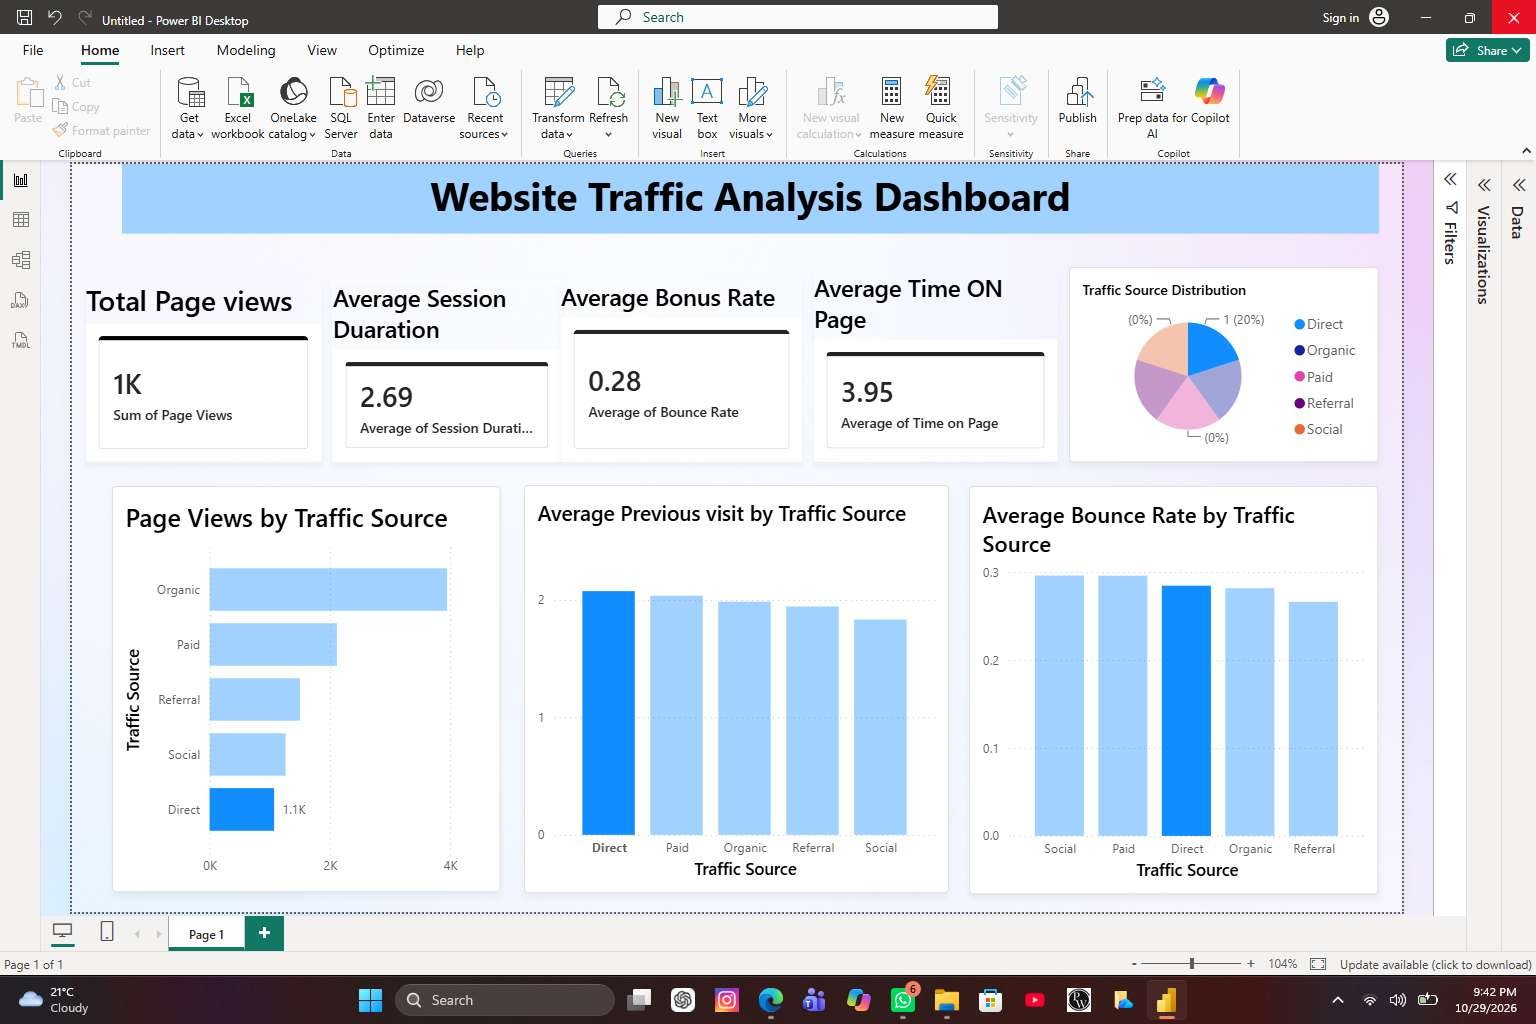

The page's visual inventory and layout, read from the dashboard file:
{"tool":"powerbi","page":{"name":"Page 1","canvas":[1280,720],"ordinal":0},"visuals":[{"type":"cardVisual","title":"Total Page views","fields":{"Data":["Sum(website_wata.Page Views)"]},"box":[13.7,112.6,226.6,174.4],"z":0},{"type":"cardVisual","title":"Average Session Duaration","fields":{"Data":["Avg(website_wata.Session Duration)"]},"box":[250,112.6,221.1,174.4],"z":1},{"type":"cardVisual","title":"Average Bonus Rate","fields":{"Data":["Avg(website_wata.Bounce Rate)"]},"box":[471.1,112.6,232.1,174.4],"z":2},{"type":"cardVisual","title":"Average Time ON Page","fields":{"Data":["Avg(website_wata.Time on Page)"]},"box":[714.2,104.4,234.8,182.7],"z":3},{"type":"clusteredBarChart","title":"Page Views by Traffic Source","fields":{"Category":["website_wata.Traffic Source"],"Y":["Sum(website_wata.Page Views)"]},"box":[38.5,310.4,373.6,391.4],"z":4},{"type":"clusteredColumnChart","title":"Average  Previous visit by Traffic Source","fields":{"Category":["website_wata.Traffic Source"],"Y":["Avg(website_wata.Previous Visits)"]},"box":[435.4,309,409.3,392.8],"z":5},{"type":"clusteredColumnChart","title":"Average  Bounce Rate by Traffic Source","fields":{"Category":["website_wata.Traffic Source"],"Y":["Avg(website_wata.Bounce Rate)"]},"box":[863.9,310.4,394.2,392.8],"z":6},{"type":"pieChart","title":" Traffic Source Distribution","fields":{"Category":["website_wata.Traffic Source"],"Y":["Count(website_wata.Traffic Source)"]},"box":[960,98.9,298,188.2],"z":7},{"type":"textbox","box":[48.1,0,1210,67.3],"z":8}]}

Visuals, with their boxes on the page's 1280x720 design canvas (x1, y1, x2, y2). These are canvas units, not pixel positions in the 1536x1024 screenshot, which may show the page scaled, cropped or inside an application window:
"Total Page views" cardVisual: box(14, 113, 240, 287)
"Average Session Duaration" cardVisual: box(250, 113, 471, 287)
"Average Bonus Rate" cardVisual: box(471, 113, 703, 287)
"Average Time ON Page" cardVisual: box(714, 104, 949, 287)
"Page Views by Traffic Source" clusteredBarChart: box(38, 310, 412, 702)
"Average  Previous visit by Traffic Source" clusteredColumnChart: box(435, 309, 845, 702)
"Average  Bounce Rate by Traffic Source" clusteredColumnChart: box(864, 310, 1258, 703)
" Traffic Source Distribution" pieChart: box(960, 99, 1258, 287)
textbox: box(48, 0, 1258, 67)
